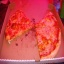pizza: (36, 13, 60, 58), (6, 8, 33, 48)
